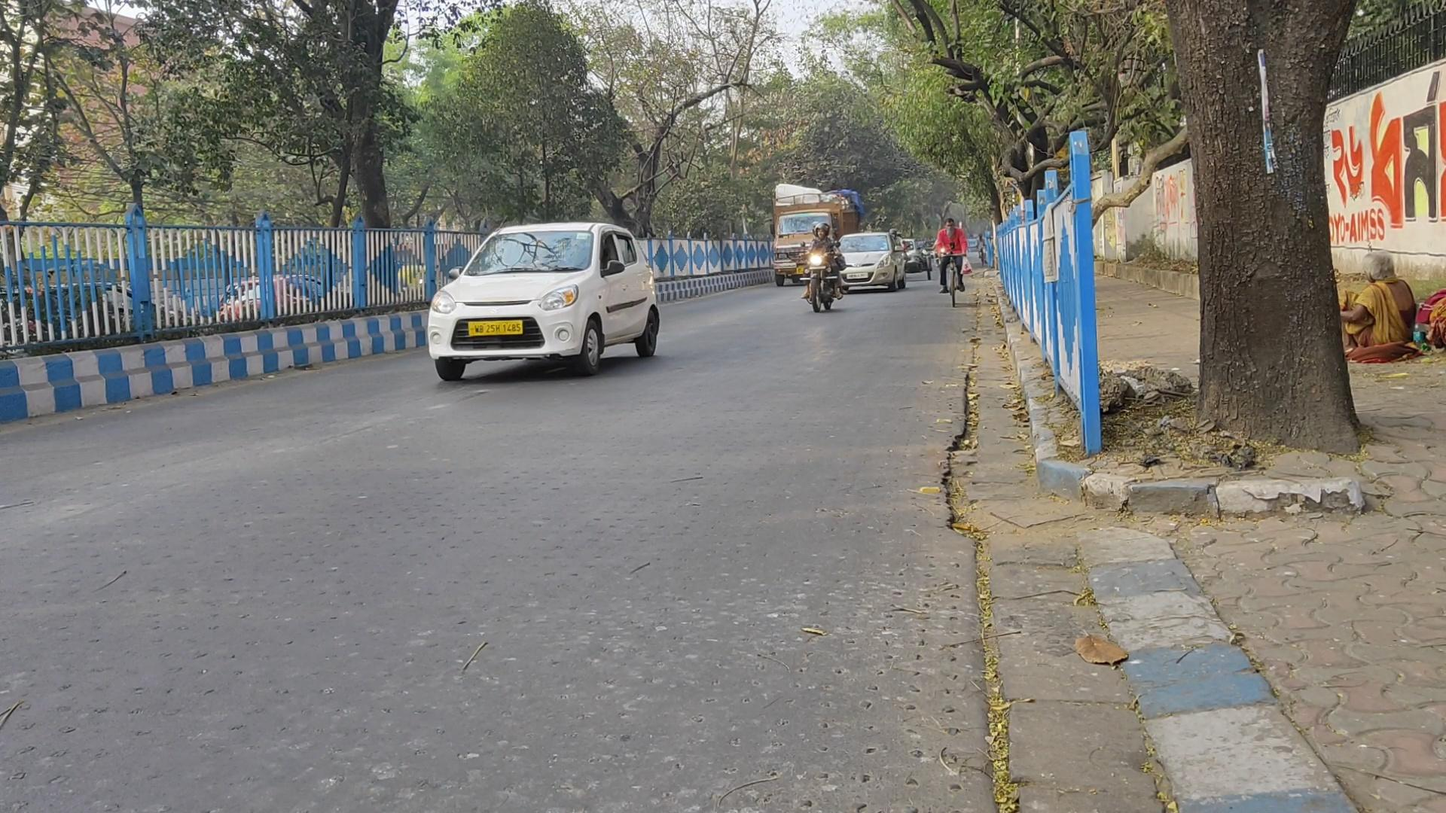bike: (800, 221, 844, 314), (932, 217, 971, 309)
car: (426, 221, 657, 382), (840, 230, 906, 295)
truck: (770, 184, 854, 288)
